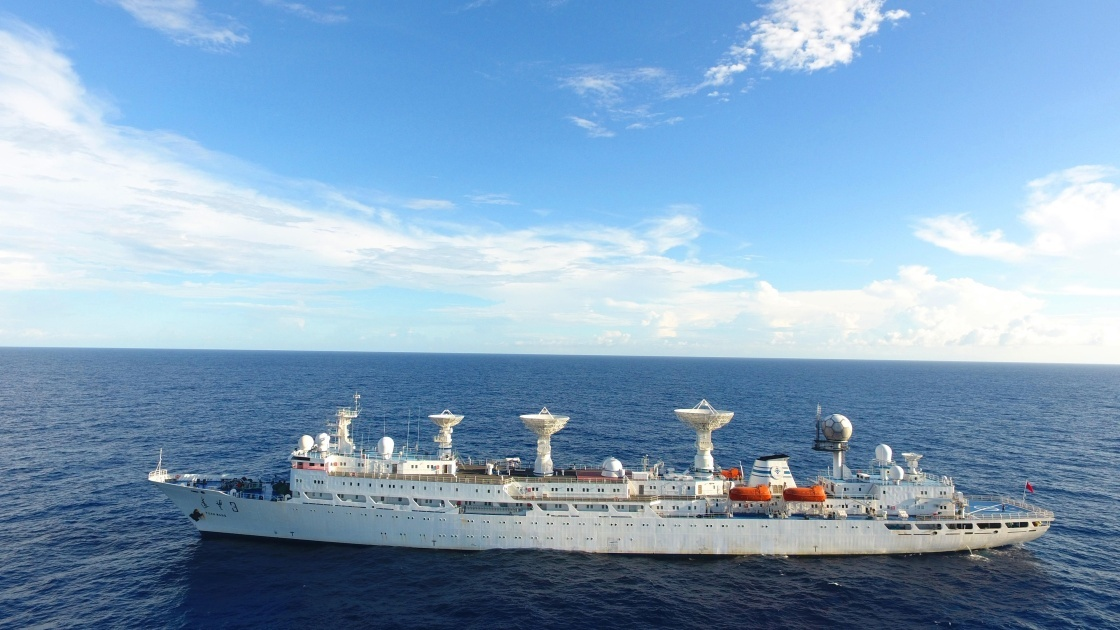warship: (148, 387, 1037, 552)
